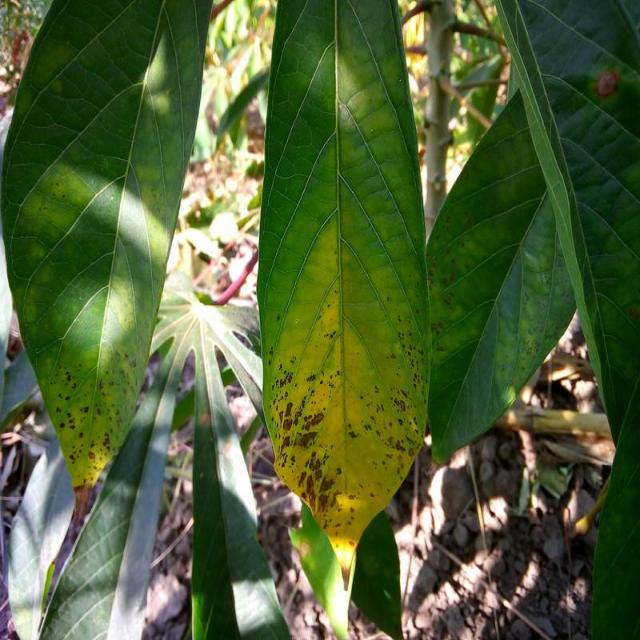cassava leaf: (0, 0, 214, 491), (255, 0, 433, 576)
